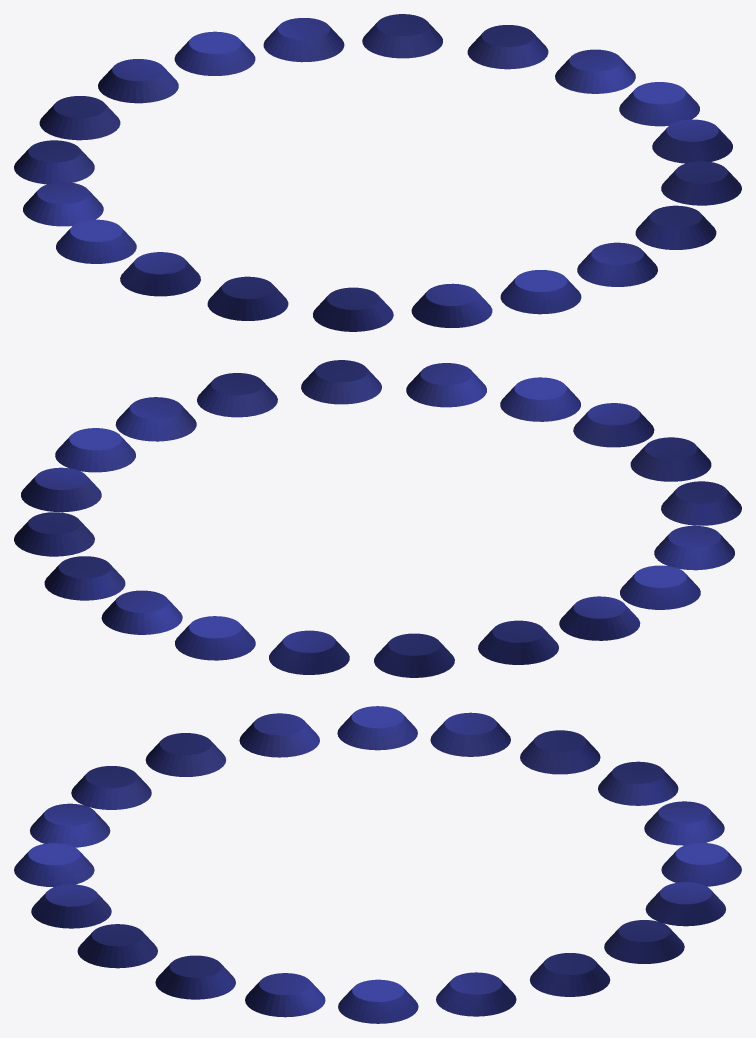
File: chibi_avatar_stands.obj
The picture shows the model from 3 angles, top to bottom: view 1: azimuth 30°, elevation 25°; view 2: azimuth 150°, elevation 25°; view 3: azimuth 270°, elevation 25°; orthographic projection.
Visible parts, largest first — view 1: Cylinder.003_Cylinder.013; view 2: Cylinder.003_Cylinder.013; view 3: Cylinder.003_Cylinder.013.
Part boxes in pixels (x1,y1,x2,y2): Cylinder.003_Cylinder.013: [14, 14, 741, 331]; Cylinder.003_Cylinder.013: [14, 360, 741, 677]; Cylinder.003_Cylinder.013: [14, 706, 741, 1023].
Size of the model in its own units: 27.17 by 0.6626 by 27.17.
Materials: 1 (1 with a texture image).
